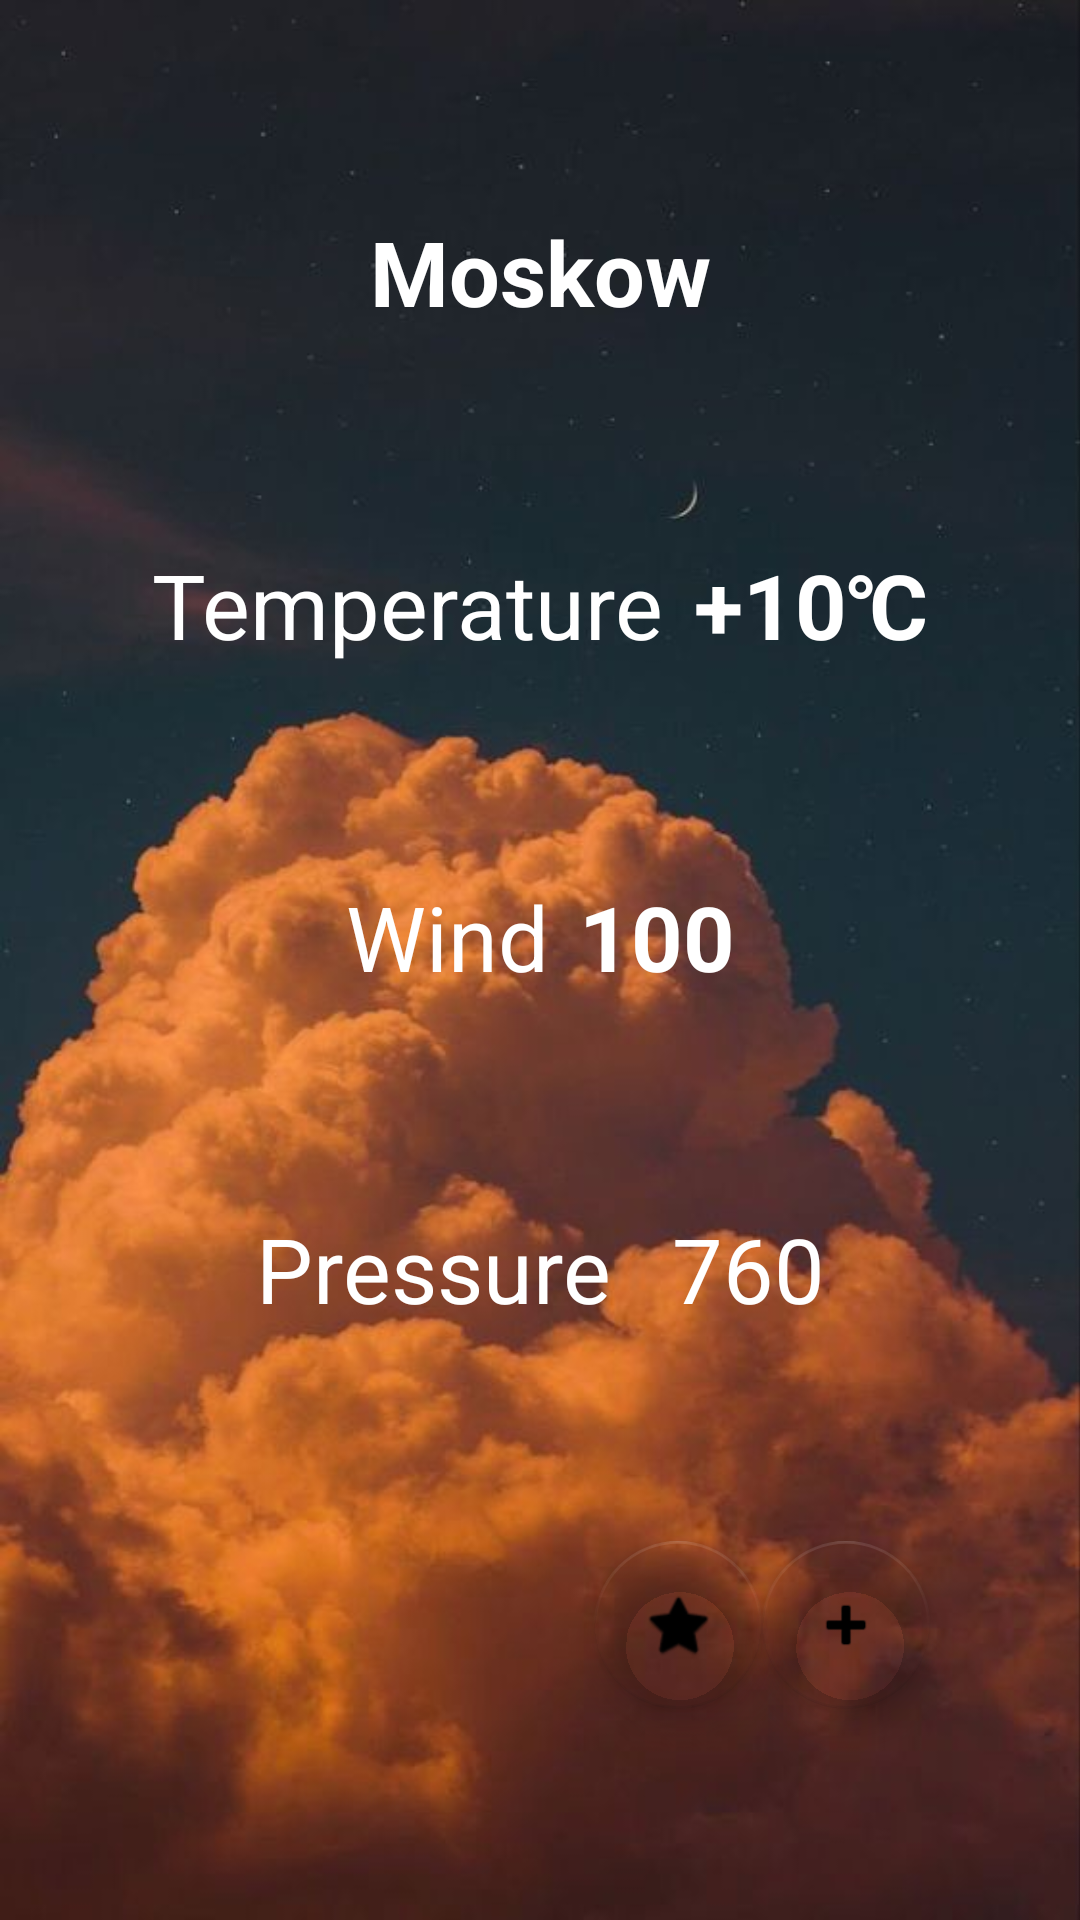

Icons on this 1080×1920 Android screen, each with the point to tap as [x,y]:
add: [846,1625]
star: [678,1625]
